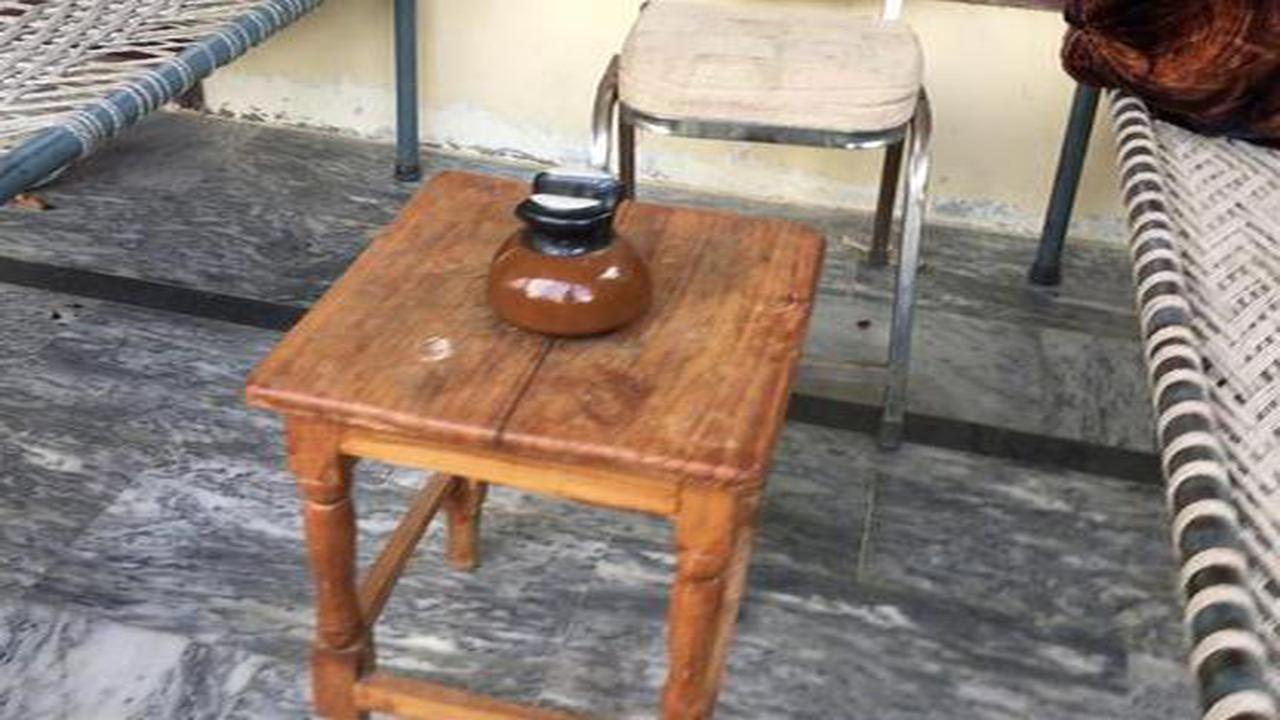insulator_pin: (468, 151, 674, 338)
